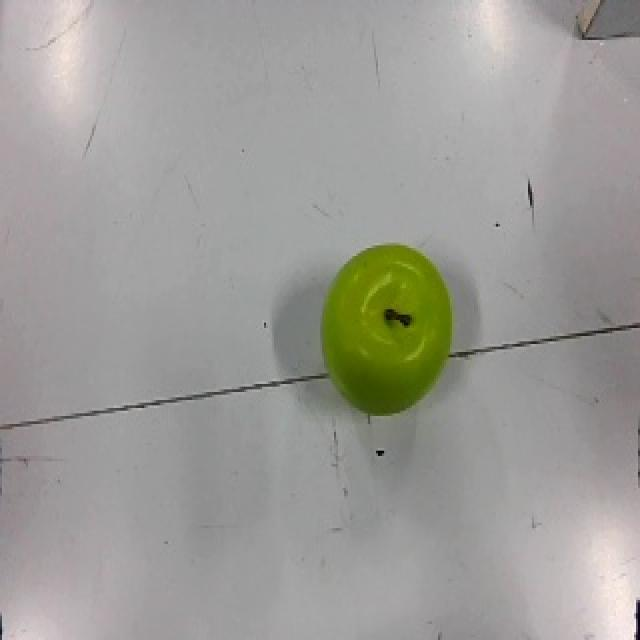apple: (318, 241, 467, 415)
